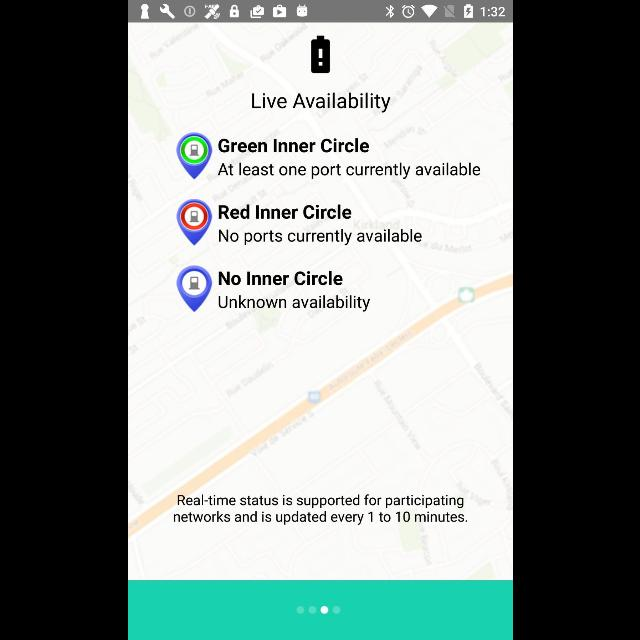icon: (310, 36, 330, 74)
image: (175, 198, 211, 245), (175, 132, 211, 178), (176, 264, 210, 312)
pageindicator: (296, 605, 340, 615)
text: (172, 493, 466, 525), (216, 163, 479, 179), (217, 228, 421, 246), (250, 93, 390, 113), (216, 294, 370, 312), (218, 138, 368, 154), (216, 204, 350, 220), (218, 270, 342, 286)
uppertaskbar: (128, 1, 512, 23)
